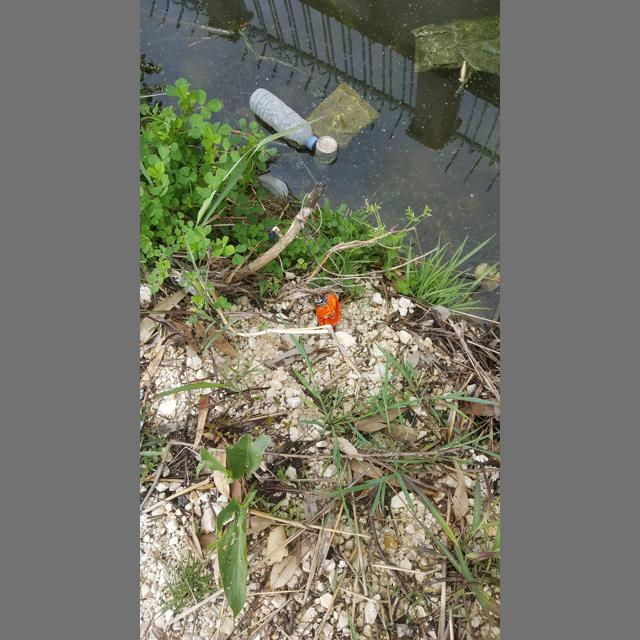litter: (410, 15, 499, 77), (306, 82, 380, 149), (250, 88, 318, 151), (315, 293, 340, 333), (315, 136, 338, 161), (265, 228, 278, 239), (309, 137, 318, 151)
